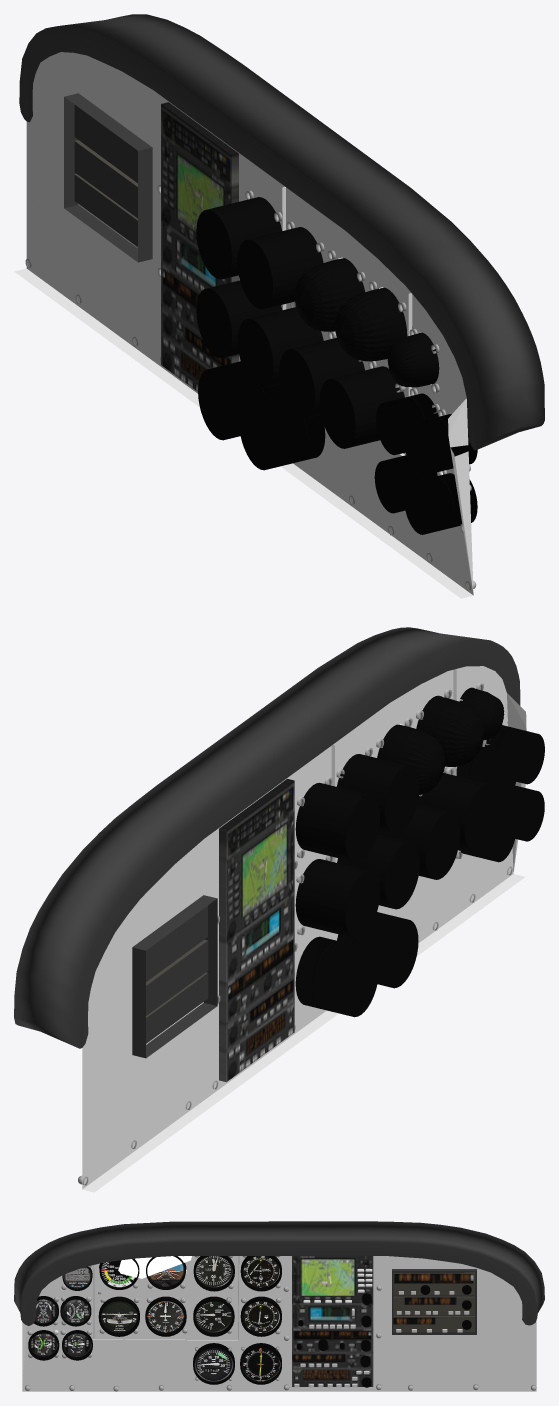
Rendered from cessna_skyhawk_cockpit.glb.
The picture shows the model from 3 angles, top to bottom: view 1: azimuth 30°, elevation 25°; view 2: azimuth 150°, elevation 25°; view 3: azimuth 270°, elevation 25°; orthographic projection. The views are drawn at different scales.
Visible parts, largest first — view 1: Cube.024, Cube.002; view 2: Cube.024, Cube.002; view 3: Cube.024, Cube.002, Plane.001.
Part boxes in pixels (<box>): Cube.024: <box>14,52,477,598</box>; Cube.002: <box>19,14,544,450</box>; Cube.024: <box>78,666,544,1192</box>; Cube.002: <box>14,627,520,1048</box>; Cube.024: <box>22,1256,536,1391</box>; Cube.002: <box>14,1221,544,1325</box>; Plane.001: <box>118,1256,191,1278</box>.
Size of the model in its own units: 0.9834 by 2.28 by 6.45.
12 materials, 4 textured.
